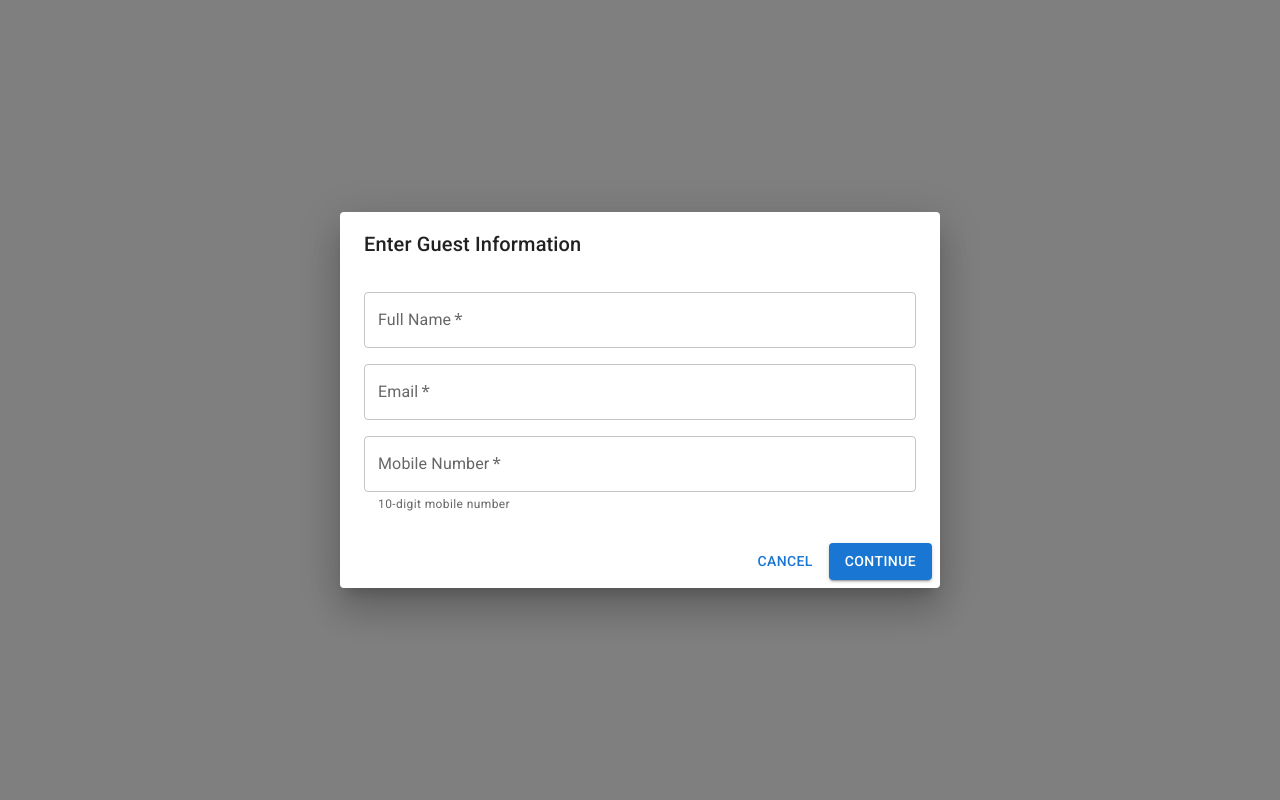
Test: GuestInfoDialog › shows validation errors for empty fields
The image size is (1280, 800).
Step 1. Click the button "Continue" → (880, 561), box [829,543,932,580]
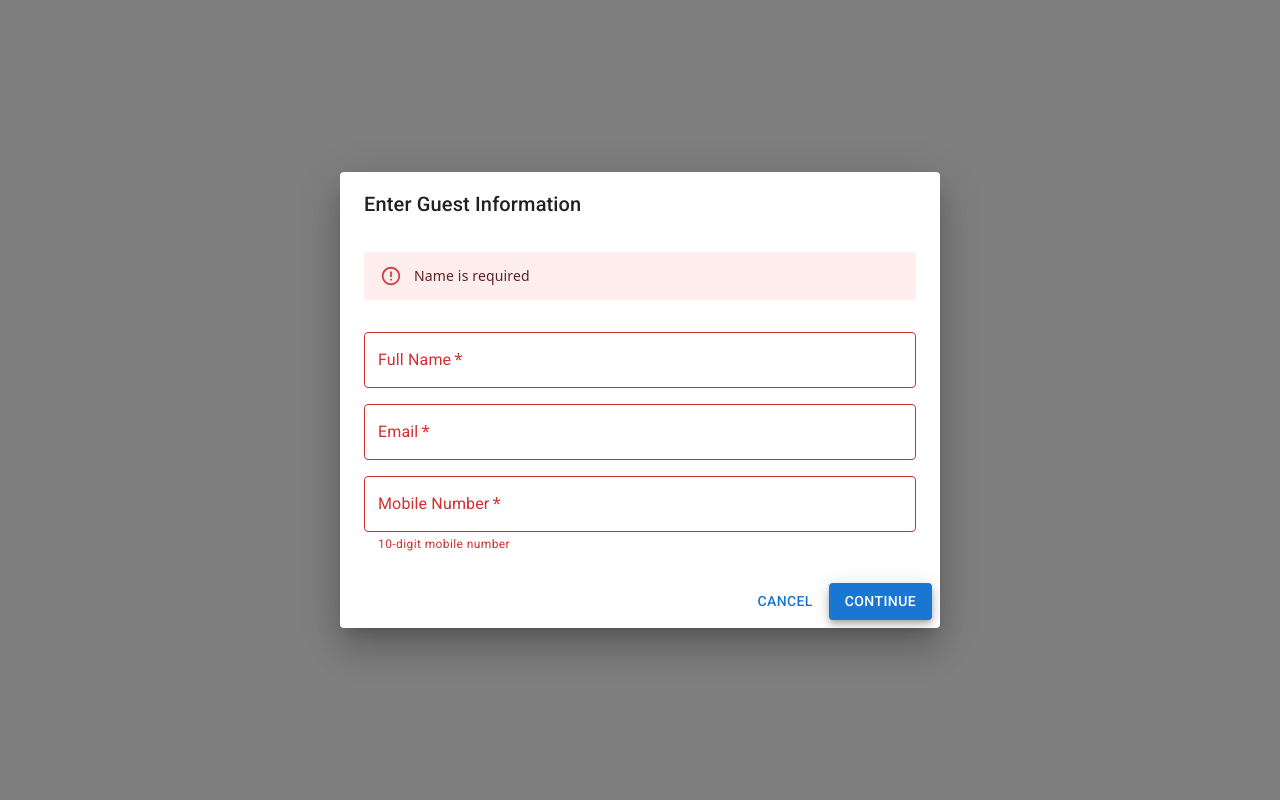
Now the text "Name is required" is shown, box [414,266,530,285]
